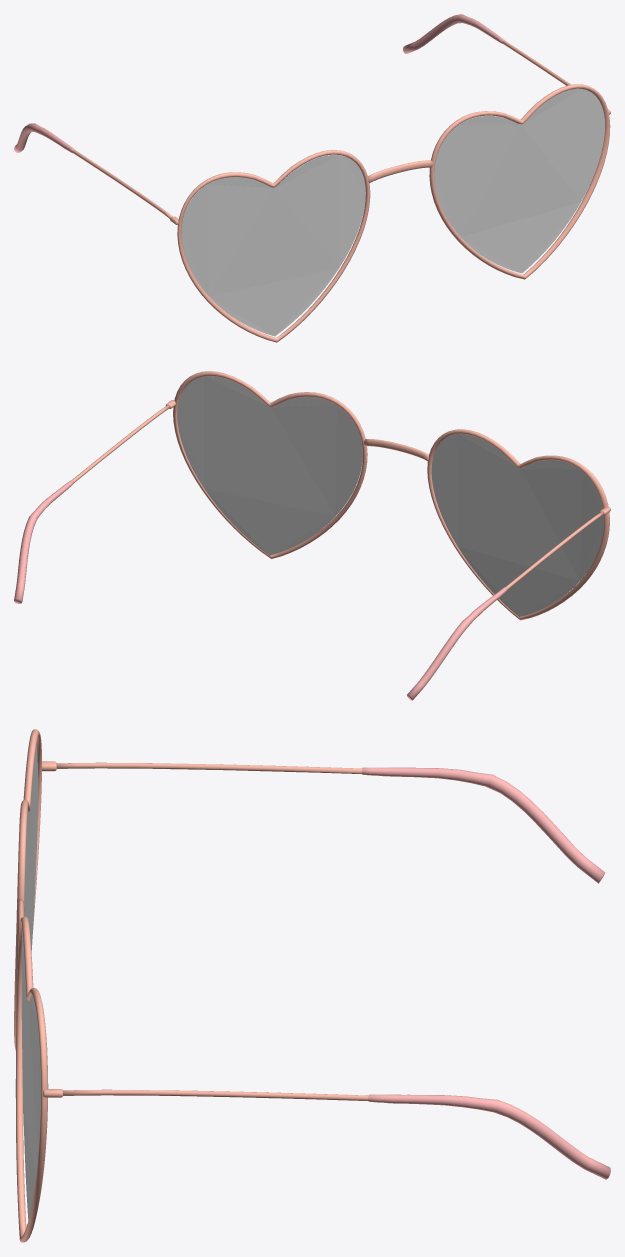
The model's file is glasses3.glb.
3 views of the same model, one above another, from view 1: azimuth 30°, elevation 25°; view 2: azimuth 150°, elevation 25°; view 3: azimuth 270°, elevation 25° (orthographic). The views are drawn at different scales.
Parts seen in each view (by area): view 1: Object_8, Object_4, Object_6, Object_10; view 2: Object_8, Object_4, Object_6, Object_10; view 3: Object_4, Object_6, Object_8, Object_10.
Part boxes in pixels (x1,y1,x2,y2): Object_8: (181,89,604,336); Object_4: (177,84,610,342); Object_6: (14,14,504,153); Object_10: (72,40,610,224); Object_8: (177,376,603,616); Object_4: (173,371,609,620); Object_6: (14,480,507,700); Object_10: (72,400,610,589); Object_4: (14,729,48,1242); Object_6: (362,767,610,1179); Object_8: (21,744,40,1219); Object_10: (42,761,368,1101).
Bounding box in the file's own units: 153 × 59.8 × 114.
